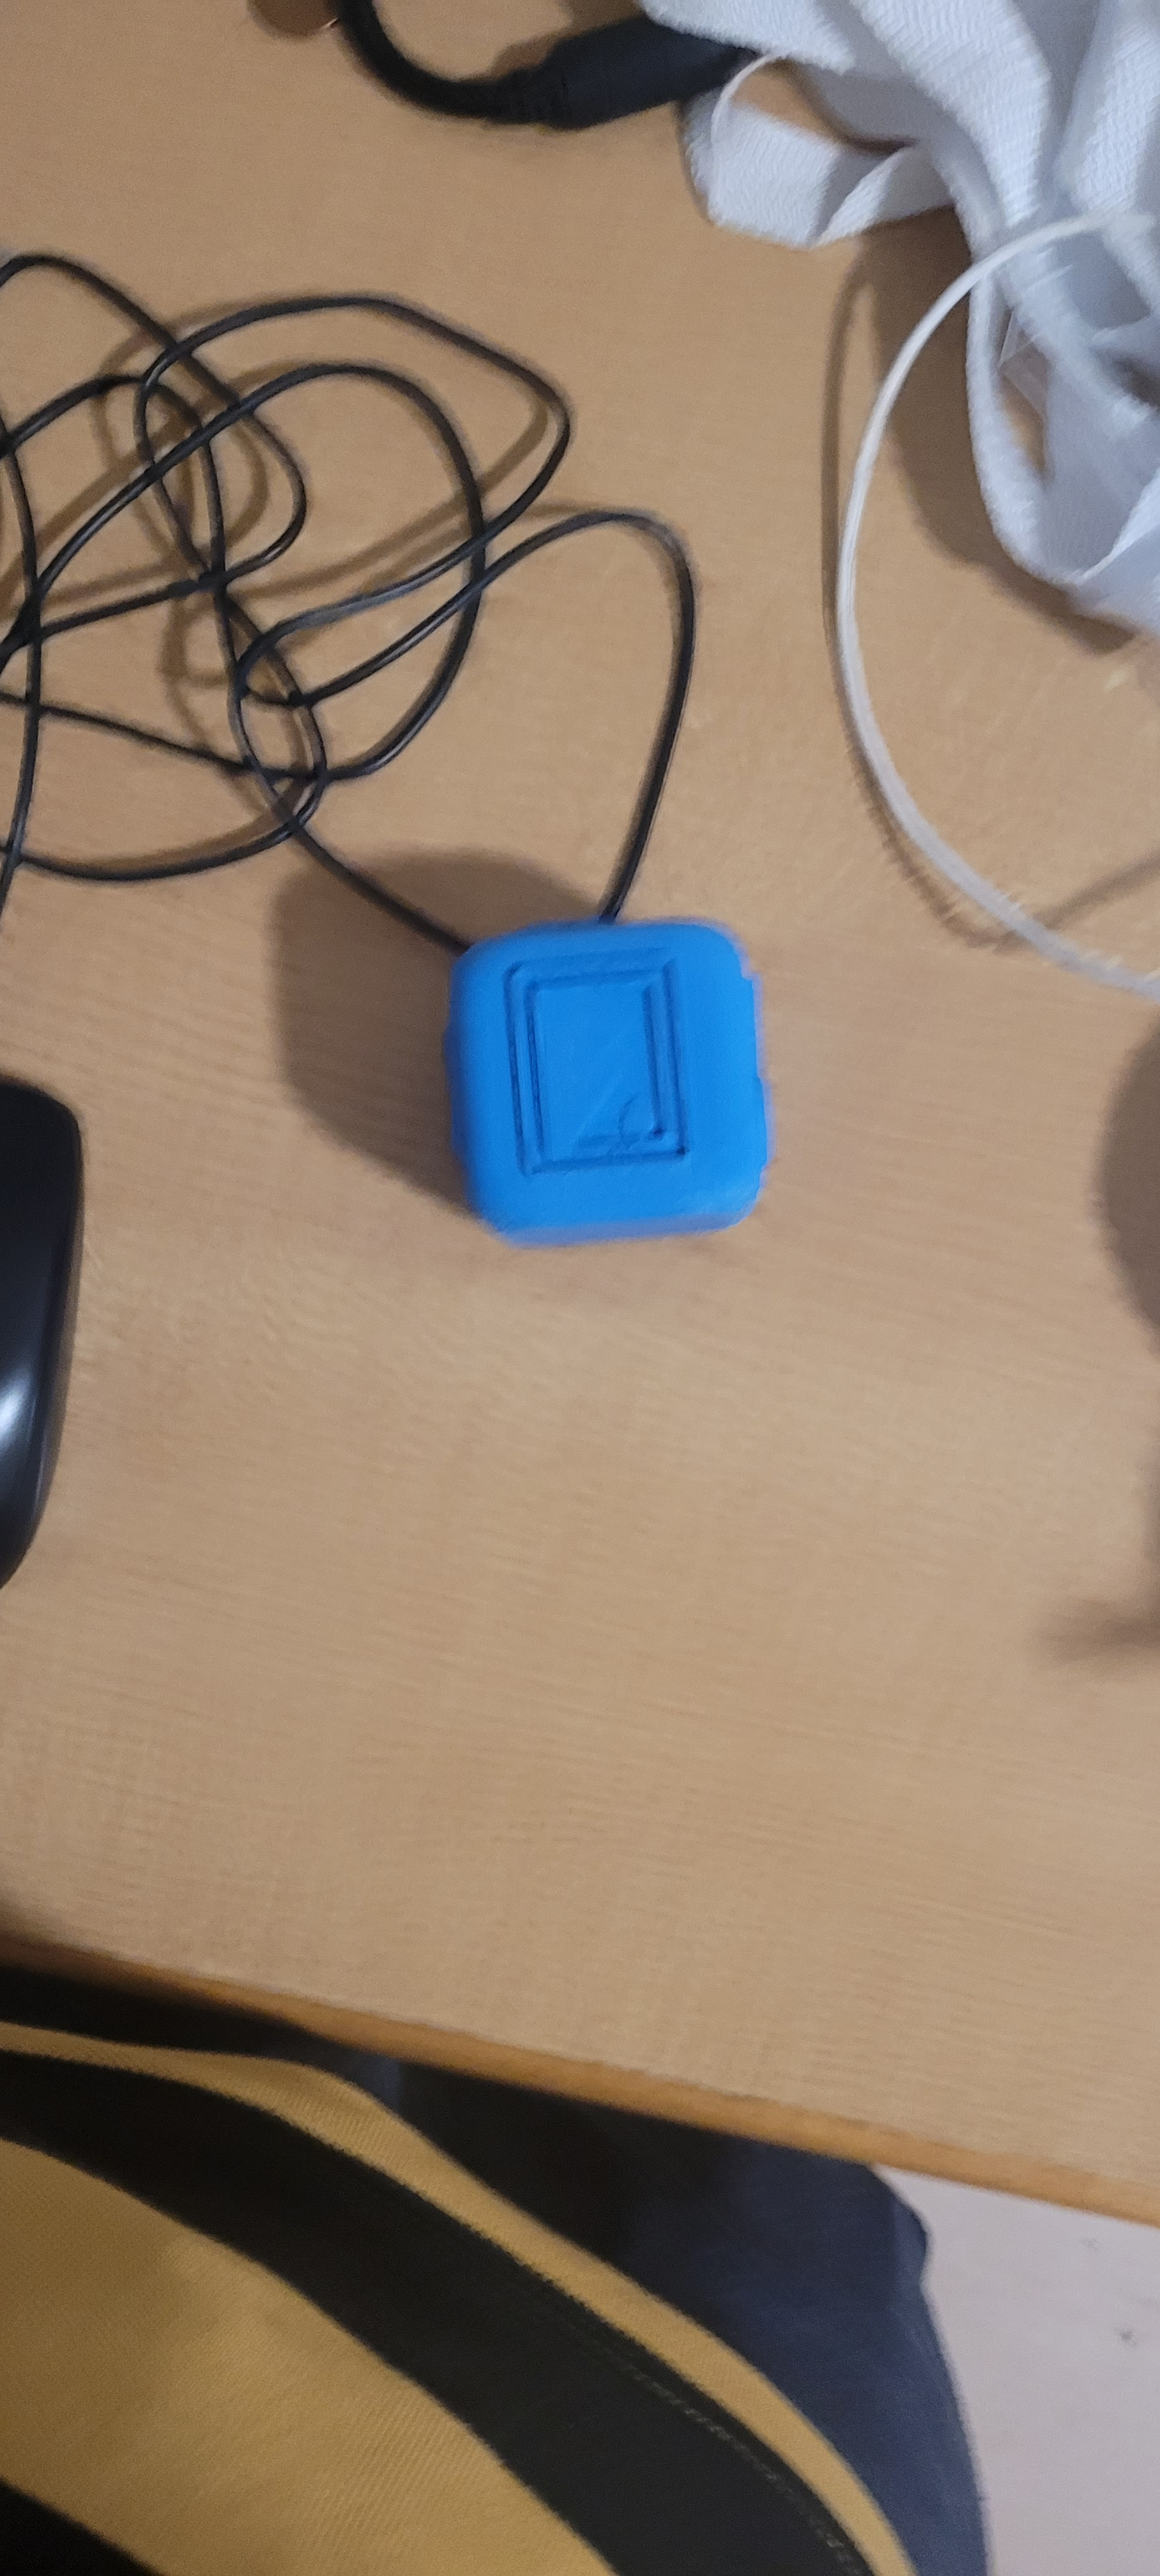Story: (470, 940, 731, 1158)
